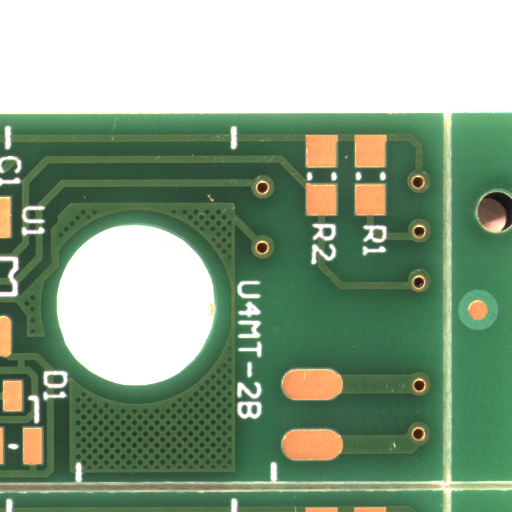Short: (21, 363, 36, 378)
